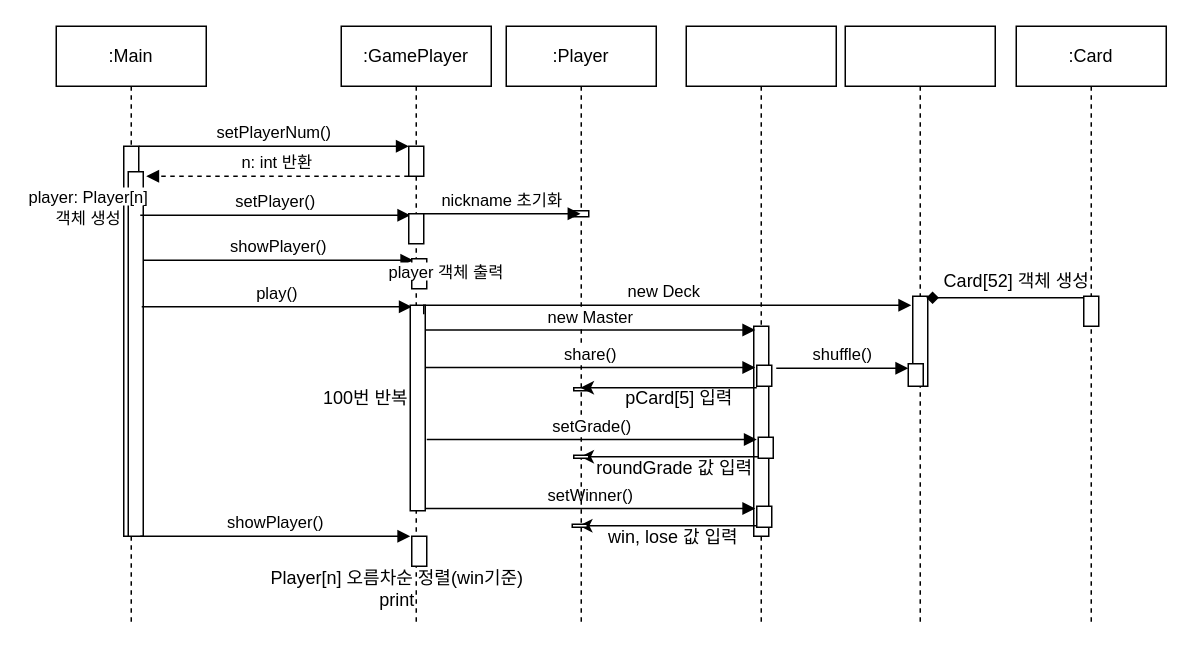
The diagram is 1193 pixels wide and 653 high, and some of its shapes have lost their labels. The centre of each missing label's shape, as x and y in pixels:
"deck:Deck" belongs at pixel 919 325.
"master:Master" belongs at pixel 760 325.
